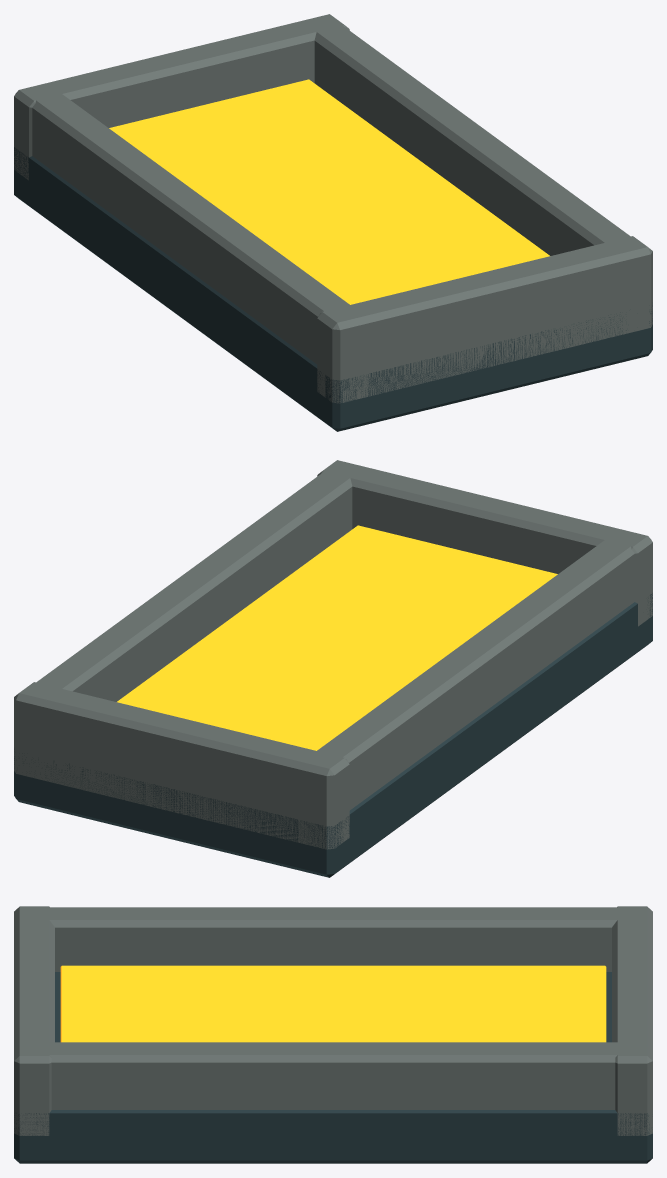
File: casting-trough.glb
The picture shows the model from 3 angles, top to bottom: view 1: azimuth 30°, elevation 25°; view 2: azimuth 150°, elevation 25°; view 3: azimuth 270°, elevation 25°; orthographic projection.
Visible parts, largest first — view 1: casting-trough__casting-trough__hardware, casting-trough__casting-trough__molten, casting-trough__casting-trough__steel; view 2: casting-trough__casting-trough__hardware, casting-trough__casting-trough__molten, casting-trough__casting-trough__steel; view 3: casting-trough__casting-trough__hardware, casting-trough__casting-trough__molten, casting-trough__casting-trough__steel.
Boxes of the visible parts, x1,y1,x2,y2 form: casting-trough__casting-trough__hardware: (14,14,652,403); casting-trough__casting-trough__molten: (109,79,549,304); casting-trough__casting-trough__steel: (14,147,652,431); casting-trough__casting-trough__hardware: (14,460,652,849); casting-trough__casting-trough__molten: (117,525,557,750); casting-trough__casting-trough__steel: (14,593,652,877); casting-trough__casting-trough__hardware: (14,906,652,1135); casting-trough__casting-trough__molten: (60,965,606,1042); casting-trough__casting-trough__steel: (14,972,652,1163).
Size of the model in its own units: 1.6 by 0.52 by 2.8.
